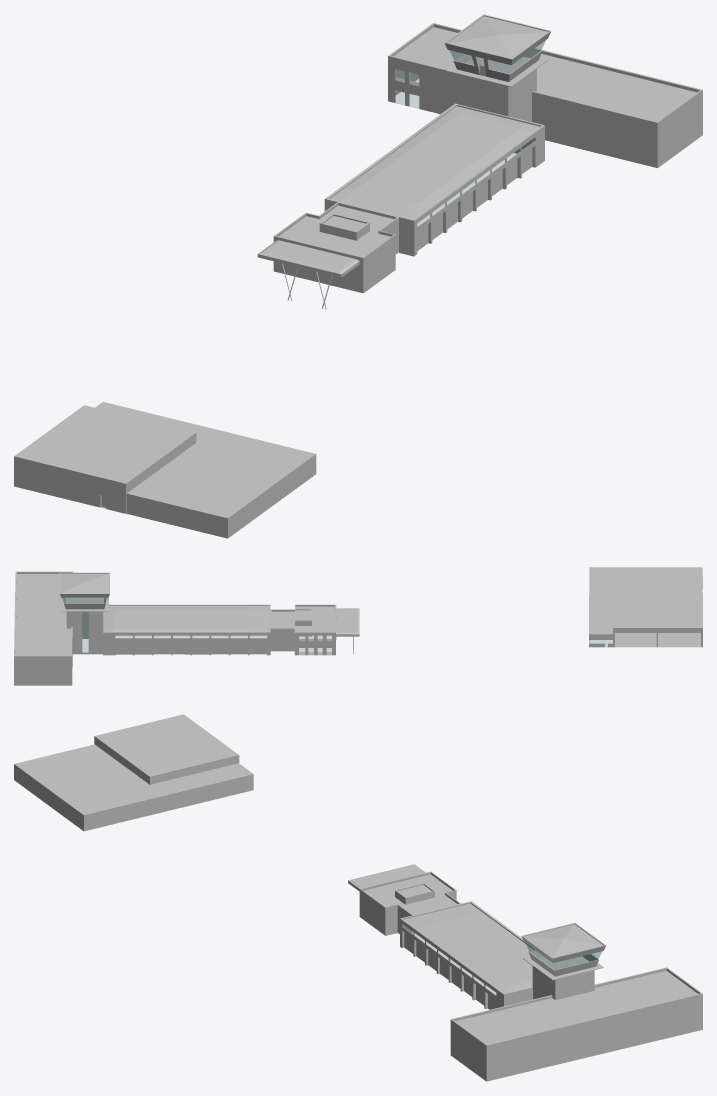
The model's file is OERKgc.gltf.
3 views of the same model, one above another, from view 1: azimuth 30°, elevation 25°; view 2: azimuth 150°, elevation 25°; view 3: azimuth 270°, elevation 25° (orthographic). The views are drawn at different scales.
Visible parts, largest first — view 1: gc.fire.building, gc.main.building, gc.service.2, gc.service.1, gc.tower.top, gc.tower, gc.fire.sunshade, gc.tower.balcony, gc.fire.roof.room; view 2: gc.fire.building, gc.main.building, gc.service.1, gc.service.2, gc.tower.top, gc.tower, gc.fire.sunshade, gc.tower.balcony, gc.fire.roof.room; view 3: gc.main.building, gc.fire.building, gc.service.2, gc.service.1, gc.tower.top, gc.tower, gc.fire.sunshade, gc.tower.balcony, gc.fire.roof.room.
Part boxes in pixels (x1,y1,x2,y2): gc.fire.building: (273, 103, 544, 293); gc.main.building: (388, 23, 702, 168); gc.service.2: (95, 402, 316, 538); gc.service.1: (14, 405, 196, 513); gc.tower.top: (444, 14, 550, 81); gc.tower: (459, 69, 536, 121); gc.fire.sunshade: (257, 240, 359, 277); gc.tower.balcony: (447, 56, 548, 86); gc.fire.roof.room: (319, 213, 369, 240); gc.fire.building: (103, 604, 336, 655); gc.main.building: (14, 571, 73, 685); gc.service.1: (613, 592, 702, 647); gc.service.2: (589, 567, 702, 647); gc.tower.top: (59, 572, 109, 609); gc.tower: (66, 611, 103, 654); gc.fire.sunshade: (336, 608, 359, 636); gc.tower.balcony: (61, 597, 108, 611); gc.fire.roof.room: (295, 609, 311, 636); gc.main.building: (450, 967, 702, 1081); gc.fire.building: (359, 871, 534, 1009); gc.service.2: (14, 744, 253, 831); gc.service.1: (94, 714, 239, 784); gc.tower.top: (521, 923, 606, 976); gc.tower: (532, 966, 594, 1000); gc.fire.sunshade: (348, 864, 425, 891); gc.tower.balcony: (523, 956, 603, 980); gc.fire.roof.room: (395, 883, 434, 904).
Size of the model in its own units: 196 by 23.92 by 167.
